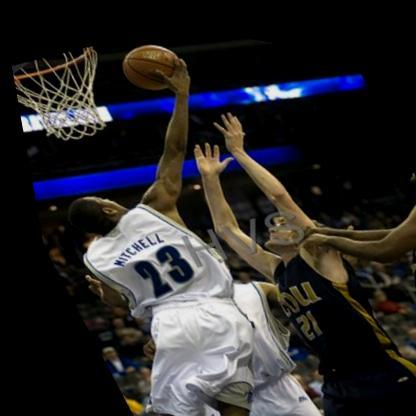basketball: (106, 24, 191, 98)
rim: (4, 31, 107, 103)
